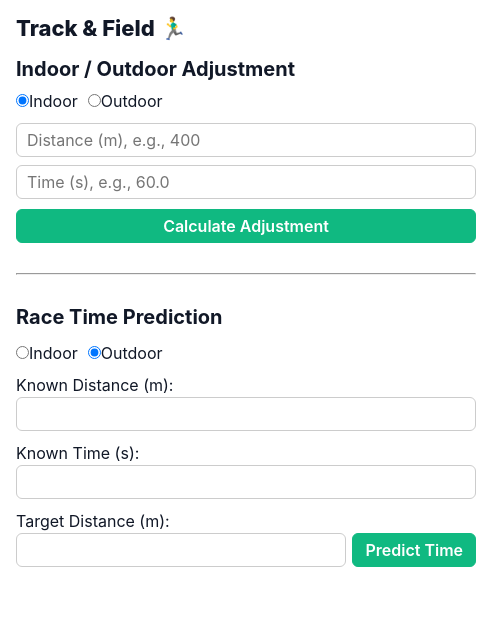
Test: 🏃‍♀️ TrackField Component › calculates adjusted time correctly (indoor to outdoor)
In the number field with placeholder "Distance (m), e.g., 400": (246, 140) [16,123,476,157], type "400"
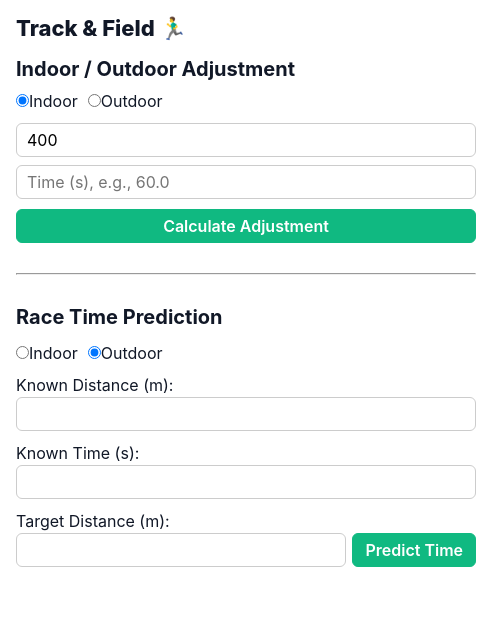
In the number field with placeholder "Time (s), e.g., 60.0": (246, 182) [16,165,476,199], type "60"
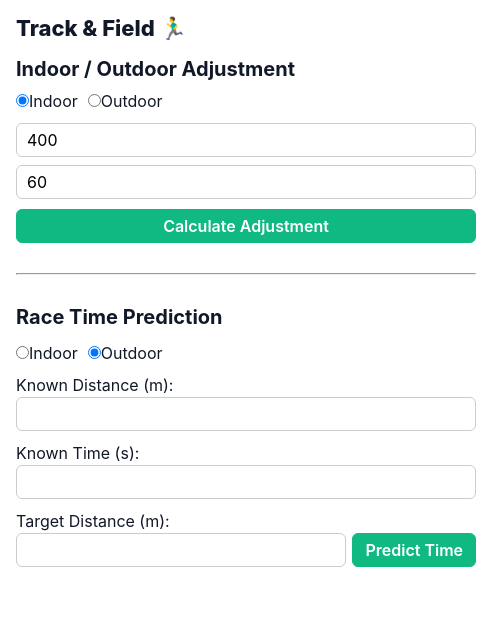
Click the button "Calculate Adjustment": (246, 226) [16,209,476,243]
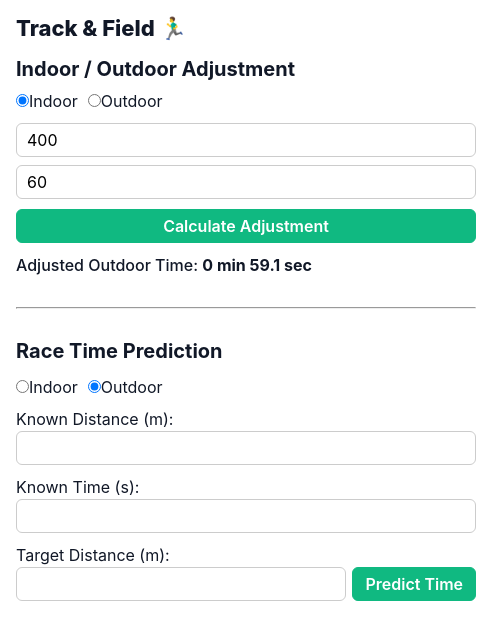
Now the text "Adjusted Outdoor Time: 0 min 59.1 sec" is shown, box [16,255,312,275]
